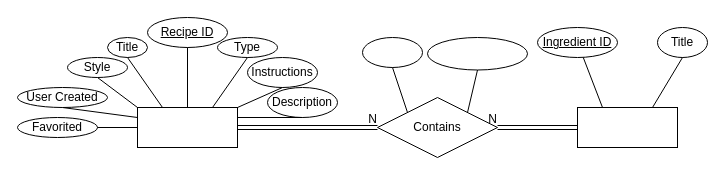
This 725x175 diagram has some shape labels left out. The shapes that lost their labels are listed below. From the top down, each one's centre as x and y in pixels, then its label:
At point 392,52: "Amount".
At point 477,53: "Unit of Measure".
At point 187,127: "Recipes".
At point 627,127: "Ingredients".
